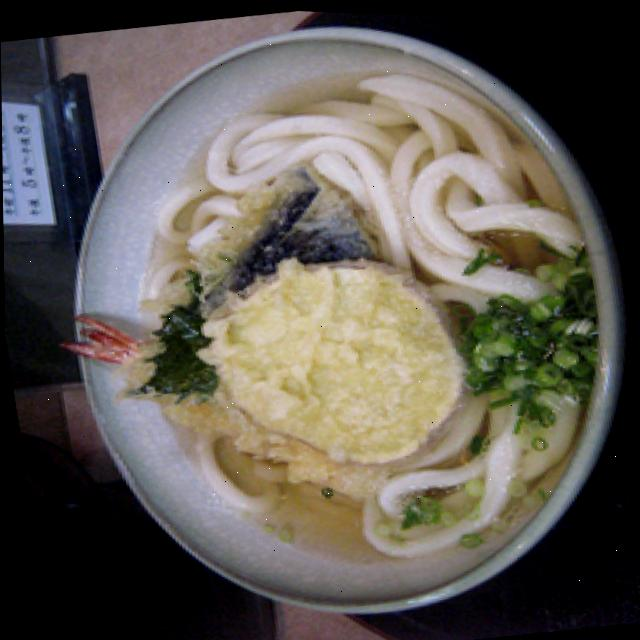面条主食: (43, 34, 631, 608)
